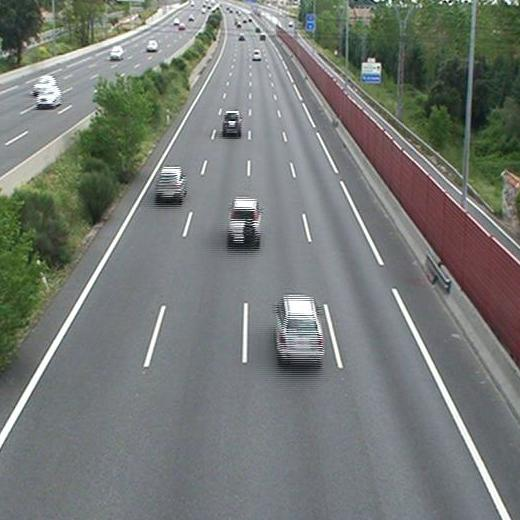car: (276, 295, 323, 360), (228, 198, 261, 240), (155, 169, 184, 198), (223, 112, 240, 134), (251, 50, 261, 61)
